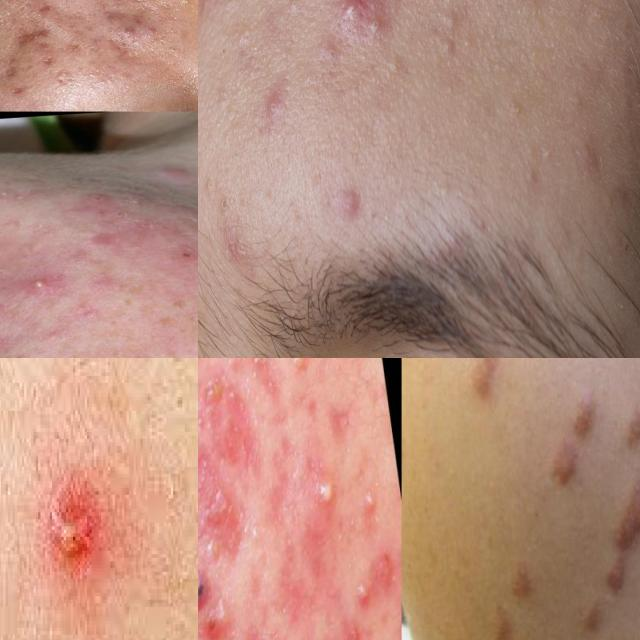acne_scars: (198, 443, 250, 556), (220, 380, 264, 489), (3, 6, 58, 52), (0, 52, 29, 83)
comedone: (340, 182, 373, 247), (71, 176, 120, 216), (141, 159, 191, 185), (440, 34, 467, 72), (320, 39, 350, 69), (363, 8, 385, 39), (120, 22, 146, 40)
keloid: (535, 381, 611, 495), (589, 472, 640, 602), (454, 358, 519, 407), (286, 358, 316, 384)
milium: (190, 35, 198, 60)
papule: (26, 446, 120, 614), (204, 375, 226, 417), (210, 542, 224, 573)
pustule: (313, 467, 349, 521), (22, 258, 68, 295), (354, 570, 376, 614)
sebo-crystan-conglo: (200, 601, 243, 640), (198, 567, 218, 614)
